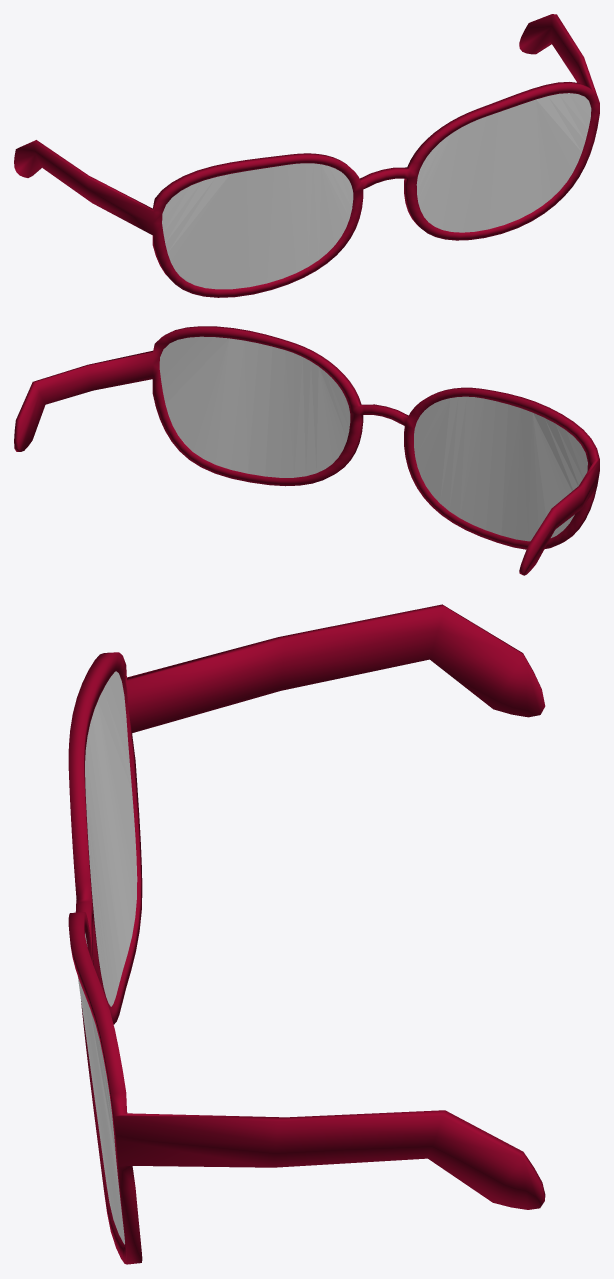
The model's file is CrushMegane_Ml.fbx.
3 views of the same model, one above another, from view 1: azimuth 30°, elevation 25°; view 2: azimuth 150°, elevation 25°; view 3: azimuth 270°, elevation 25° (orthographic). The views are drawn at different scales.
Parts seen in each view (by area): view 1: CrushMegane_ML.Glasses, CrushMegane_ML; view 2: CrushMegane_ML.Glasses, CrushMegane_ML; view 3: CrushMegane_ML, CrushMegane_ML.Glasses.
Part boxes in pixels (bbox=[...]): CrushMegane_ML.Glasses: bbox=[162, 93, 591, 289]; CrushMegane_ML: bbox=[14, 14, 599, 297]; CrushMegane_ML.Glasses: bbox=[159, 336, 587, 541]; CrushMegane_ML: bbox=[14, 326, 599, 575]; CrushMegane_ML: bbox=[68, 604, 545, 1264]; CrushMegane_ML.Glasses: bbox=[77, 671, 137, 1244].
Size of the model in its own units: 0.1431 by 0.0368 by 0.0563.
